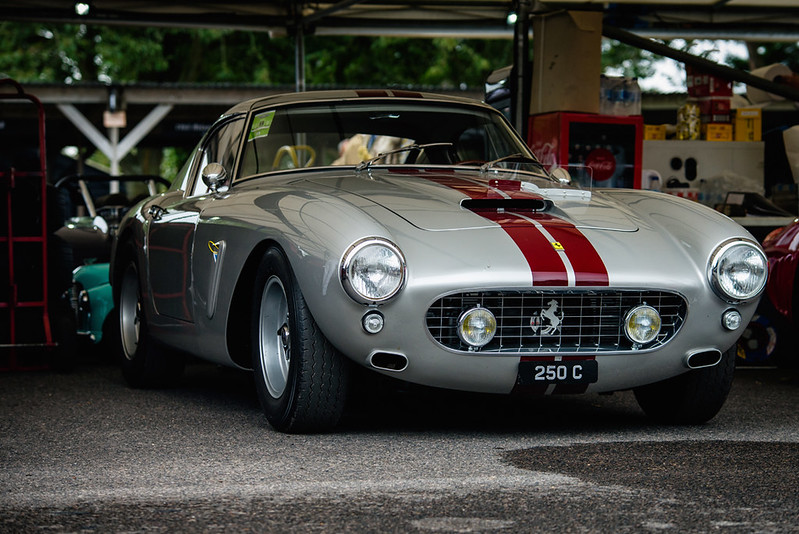number_plate: (518, 350, 608, 399)
